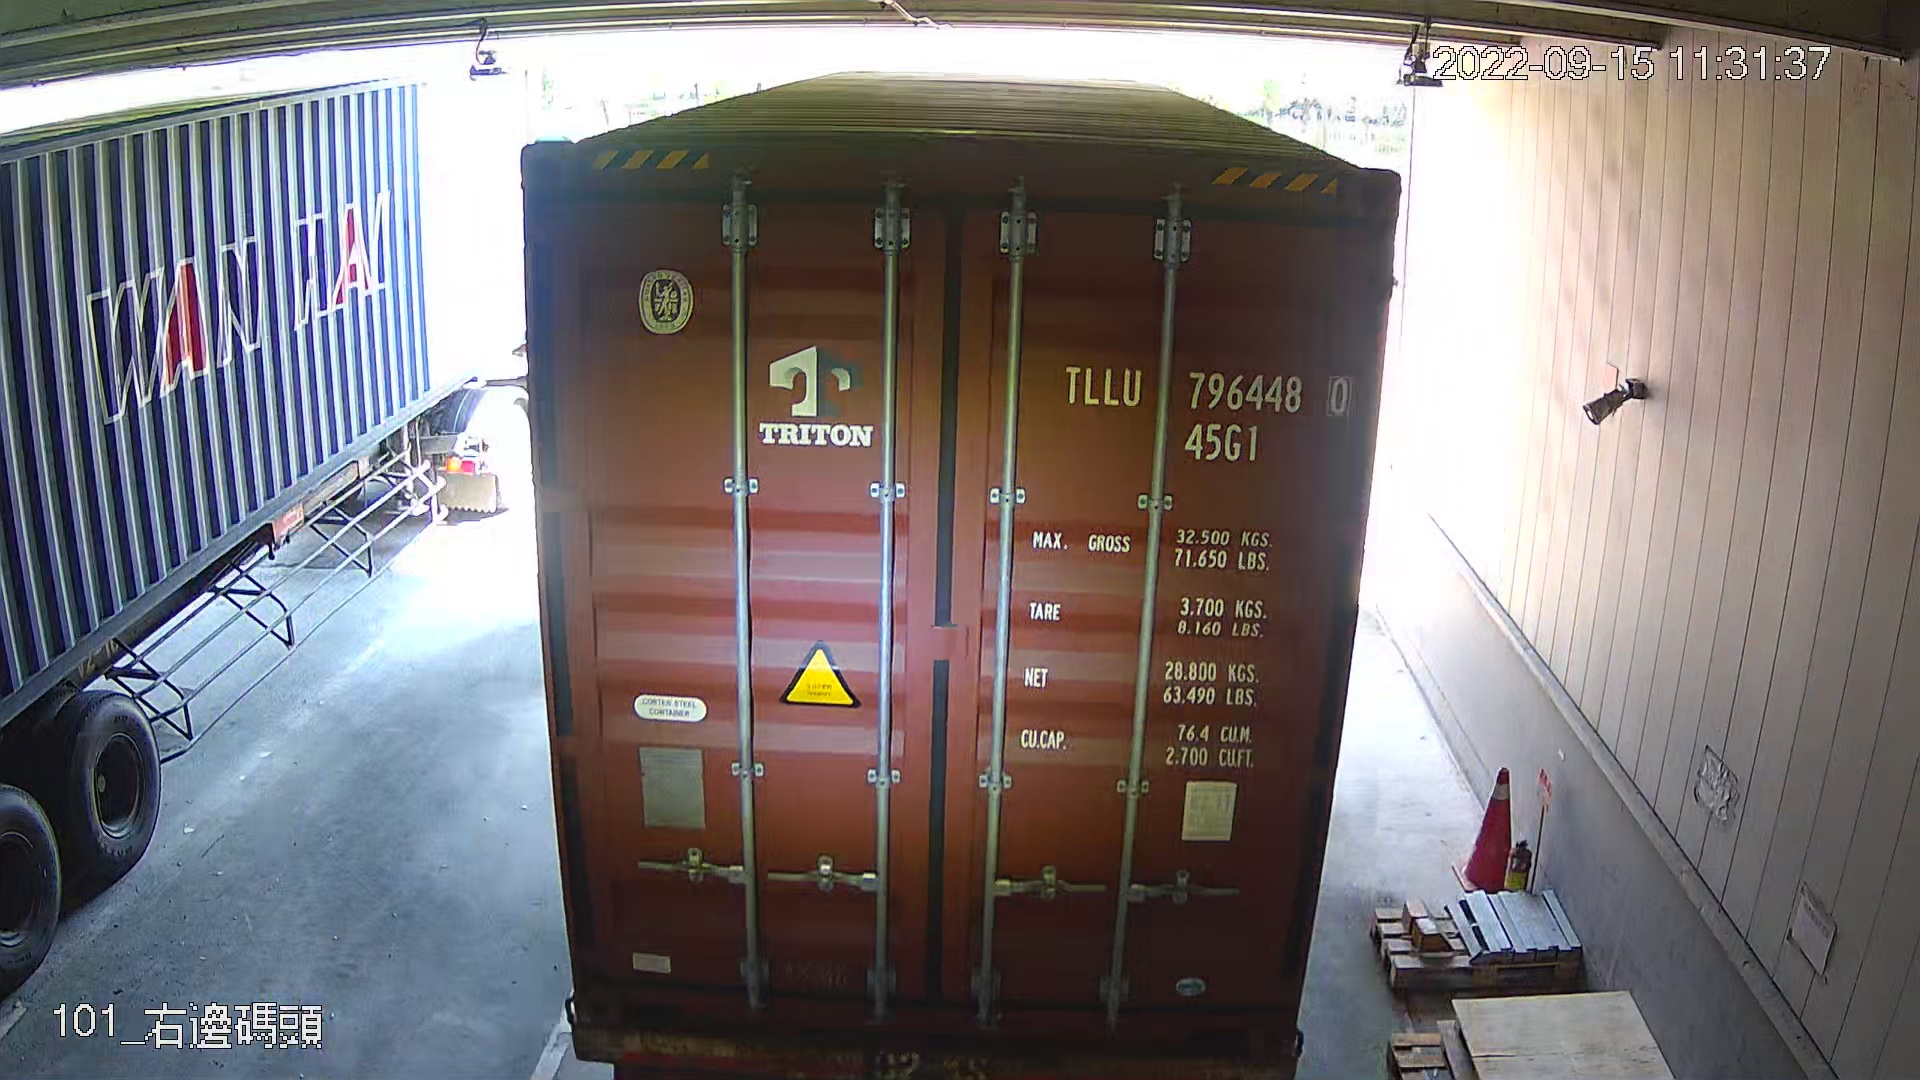container: (1051, 355, 1360, 476)
